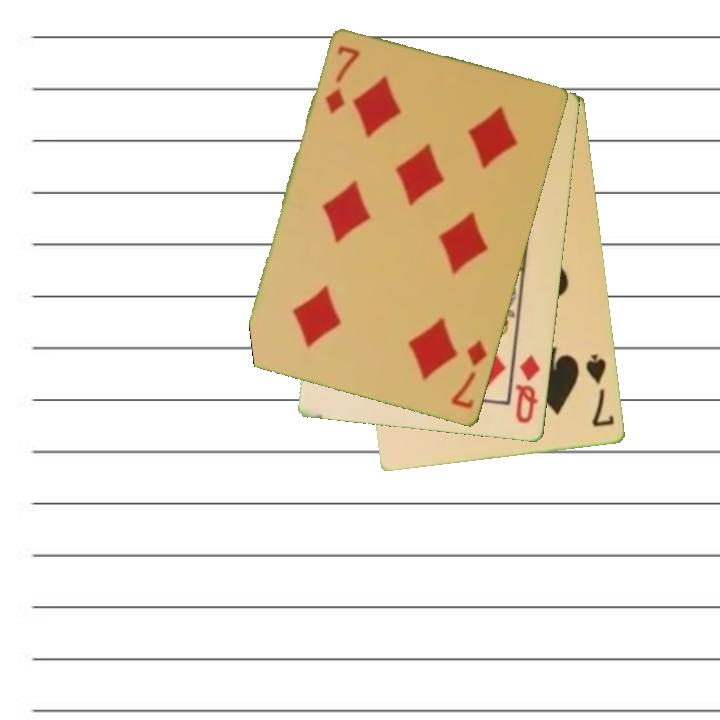7d: (447, 337, 490, 413), (322, 42, 363, 118)
7s: (582, 351, 618, 430)
Qd: (512, 352, 544, 427)
